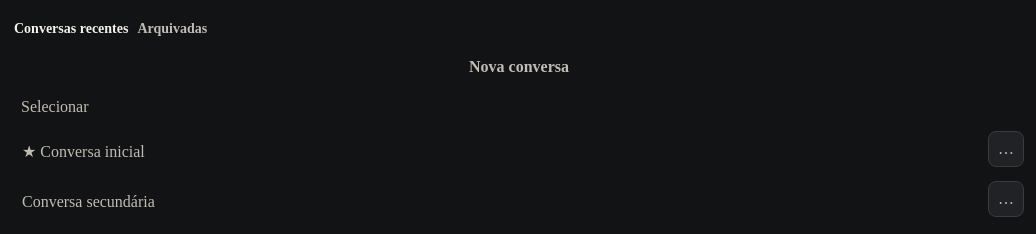
Scenario: ConversationList regressions › opens archived management only on request
Click the button with class "conversation-list-mode" at (172, 28), box x1=128 y1=12 x2=216 y2=45
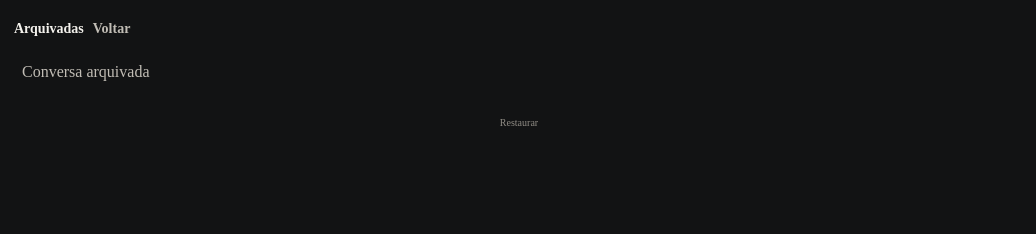
Expected: the text "Conversa arquivada" is shown, x1=22 y1=63 x2=150 y2=80
